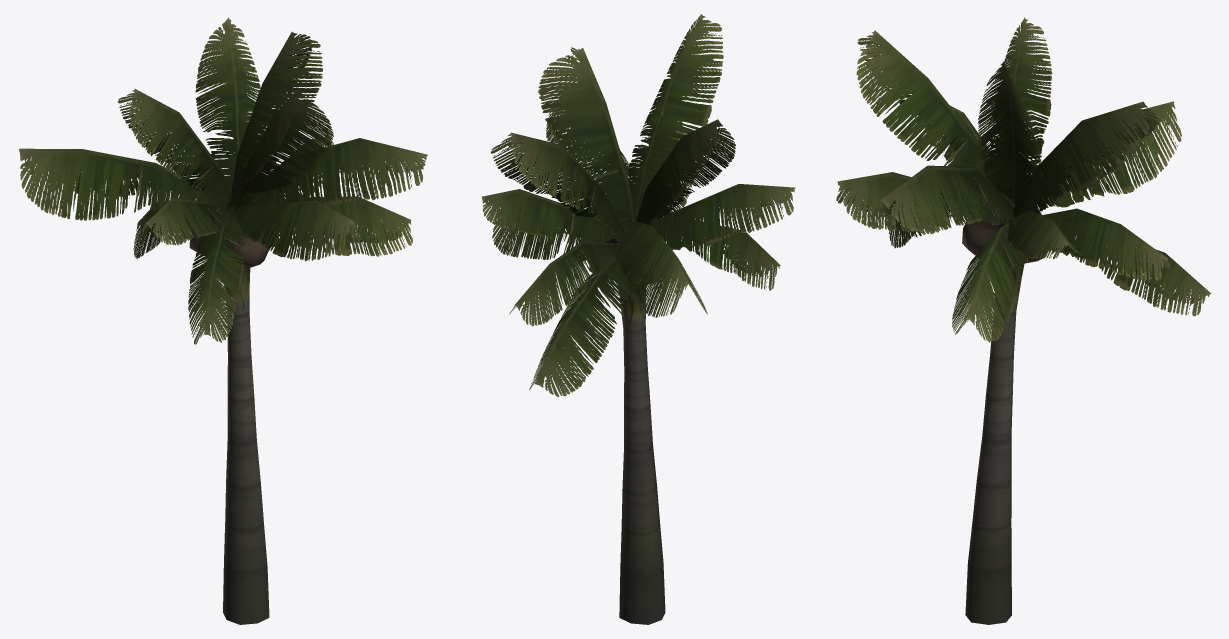
3 views of the same model, side by side, from view 1: azimuth 30°, elevation 25°; view 2: azimuth 150°, elevation 25°; view 3: azimuth 270°, elevation 25° (orthographic). The views are drawn at different scales.
Parts seen in each view (by area): view 1: body0_model0_lod0_mesh0; view 2: body0_model0_lod0_mesh0; view 3: body0_model0_lod0_mesh0.
Boxes of the visible parts, x1,y1,x2,y2 form: body0_model0_lod0_mesh0: (19,17,427,624); body0_model0_lod0_mesh0: (481,14,795,624); body0_model0_lod0_mesh0: (836,17,1211,624).
Size of the model in its own units: 163 by 281 by 168.
1 material, 1 textured.
